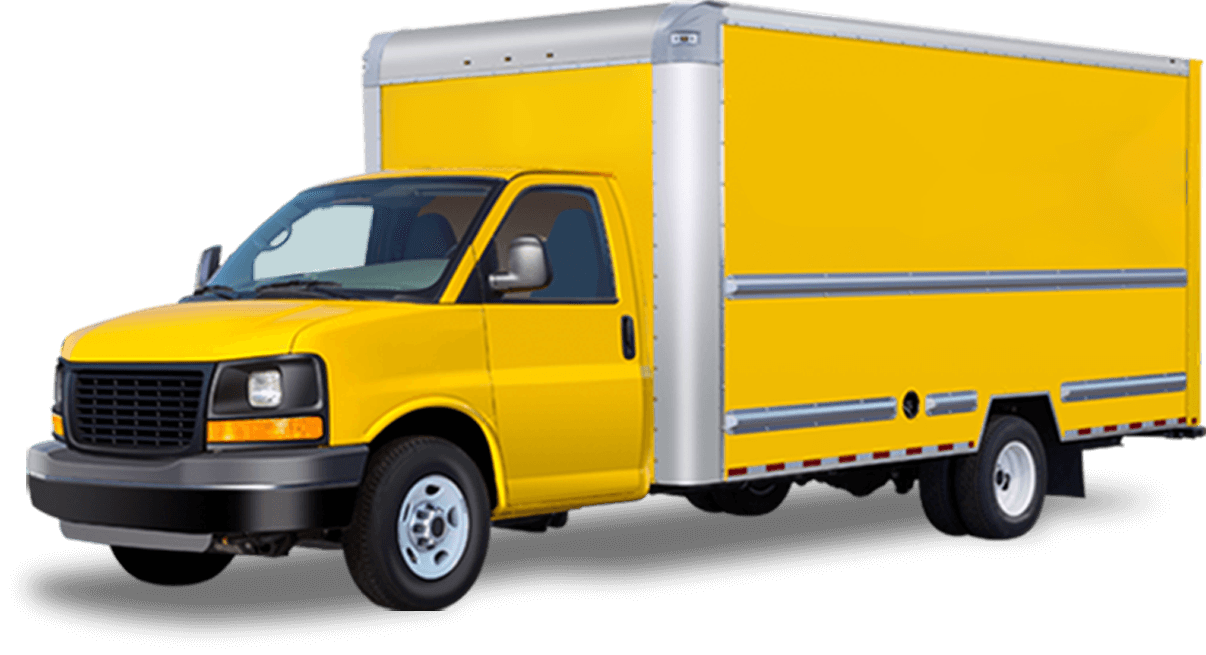truck: (25, 1, 1204, 612)
